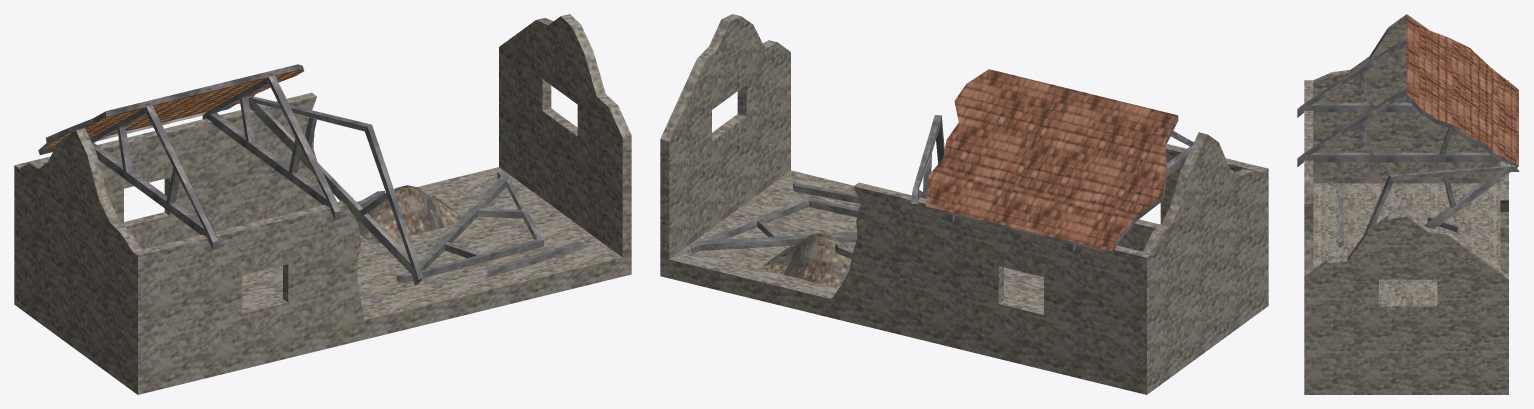
Rendered from uploads_files_4291968_RUIN+baked.fbx.
3 views of the same model, side by side, from view 1: azimuth 30°, elevation 25°; view 2: azimuth 150°, elevation 25°; view 3: azimuth 270°, elevation 25° (orthographic). The views are drawn at different scales.
Parts seen in each view (by area): view 1: ruined house 1; view 2: ruined house 1; view 3: ruined house 1.
Boxes of the visible parts, box(x1,y1,x2,y2) form: ruined house 1: box(14, 14, 631, 394); ruined house 1: box(660, 14, 1268, 394); ruined house 1: box(1297, 14, 1519, 394).
Bounding box in the file's own units: 1615 × 723 × 762.
1 material, 1 textured.
